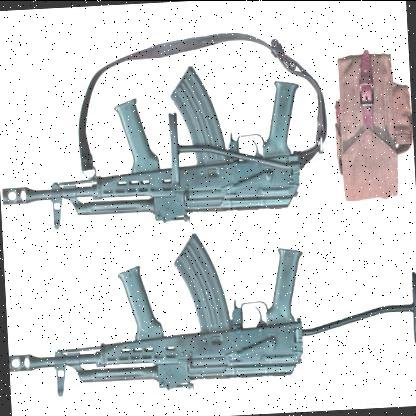rifle: (5, 220, 391, 411), (0, 56, 330, 227)
